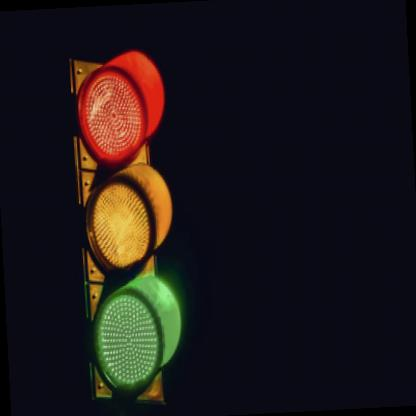trafficlight: (58, 39, 197, 415)
